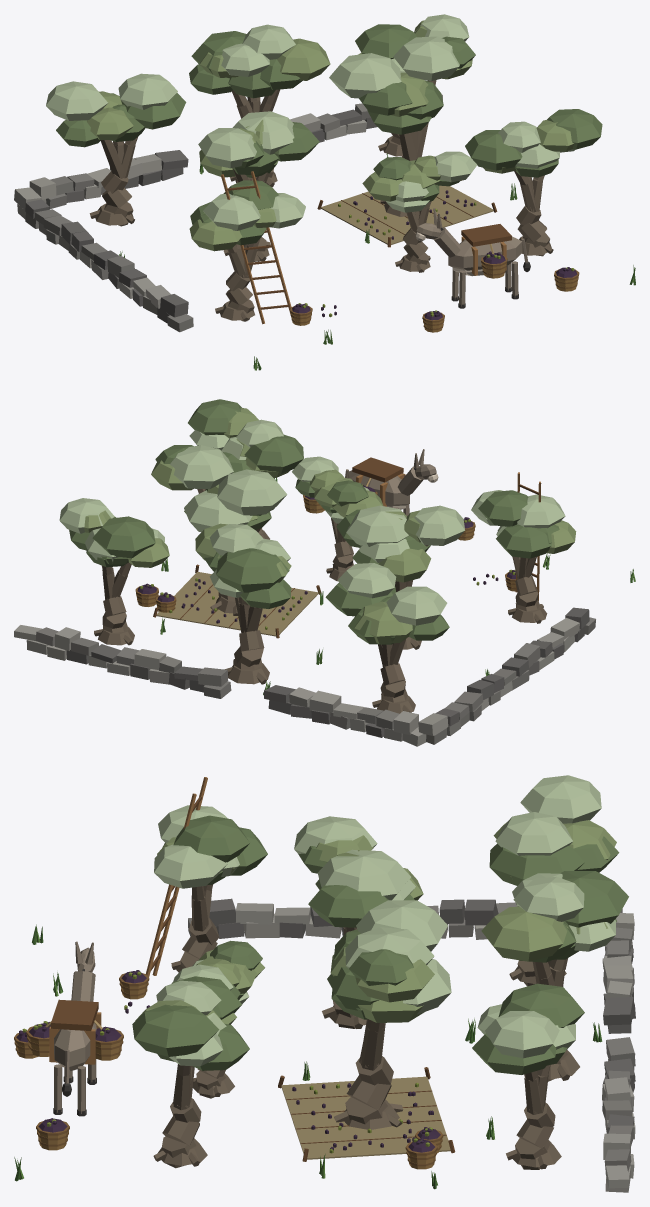
The model's file is Olivenhain.fbx.
3 renders of one model, top to bottom at view 1: azimuth 30°, elevation 25°; view 2: azimuth 150°, elevation 25°; view 3: azimuth 270°, elevation 25°, orthographic. The views are drawn at different scales.
Visible parts, largest first — view 1: Olivenhain_0; view 2: Olivenhain_0; view 3: Olivenhain_0.
Boxes of the visible parts, x1=… form: Olivenhain_0: x1=14, y1=14, x2=635, y2=370; Olivenhain_0: x1=14, y1=399, x2=635, y2=746; Olivenhain_0: x1=14, y1=775, x2=635, y2=1192.
Size of the model in its own units: 3.53 by 1.28 by 3.37.
